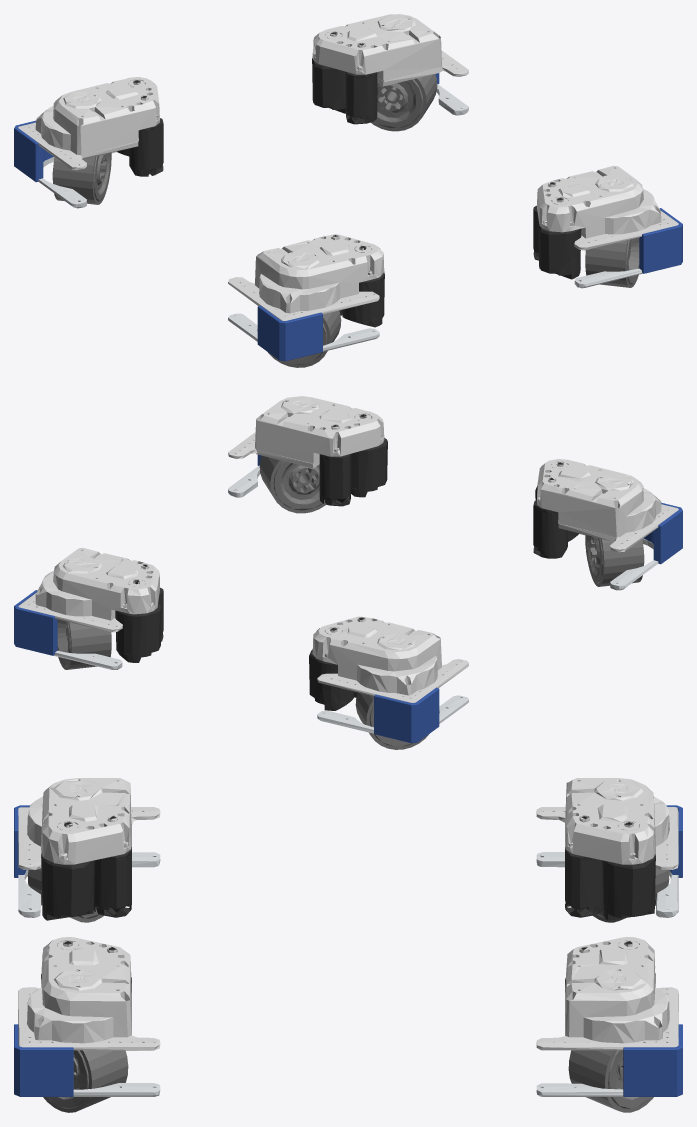
Rendered from 7769-swerve.glb.
The picture shows the model from 3 angles, top to bottom: view 1: azimuth 30°, elevation 25°; view 2: azimuth 150°, elevation 25°; view 3: azimuth 270°, elevation 25°; orthographic projection. The views are drawn at different scales.
Parts seen in each view (by area): view 1: SDS MK5n Top Assembly (A), Kraken X60 Brushless Motor, SDS MK5 Molded Wheel, MK5 Corner, SDS MK5 L Plate; view 2: SDS MK5n Top Assembly (A), Kraken X60 Brushless Motor, SDS MK5 Molded Wheel, MK5 Corner, SDS MK5 L Plate; view 3: SDS MK5n Top Assembly (A), Kraken X60 Brushless Motor, MK5 Corner, SDS MK5 Molded Wheel, SDS MK5 L Plate.
Part boxes in pixels (x1,y1,x2,y2): SDS MK5n Top Assembly (A): (18,14,678,320); Kraken X60 Brushless Motor: (117,32,581,327); SDS MK5 Molded Wheel: (52,74,639,367); MK5 Corner: (14,73,682,361); SDS MK5 L Plate: (38,84,642,351); SDS MK5n Top Assembly (A): (18,396,678,702); Kraken X60 Brushless Motor: (115,414,579,710); SDS MK5 Molded Wheel: (57,455,644,749); MK5 Corner: (14,454,682,743); SDS MK5 L Plate: (54,465,658,733); SDS MK5n Top Assembly (A): (18,778,678,1050); Kraken X60 Brushless Motor: (41,816,655,992); MK5 Corner: (14,805,682,1096); SDS MK5 Molded Wheel: (27,868,669,1112); SDS MK5 L Plate: (18,852,678,1096).
Size of the model in its own units: 0.6445 by 0.154 by 0.7461.
